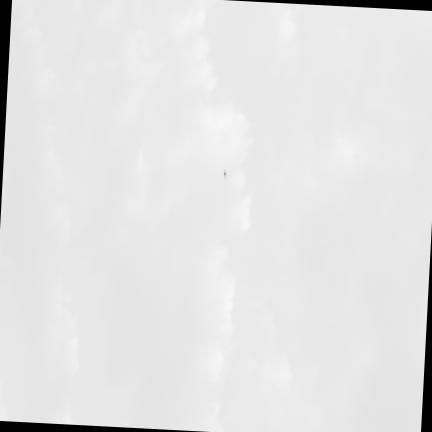Shahed: (223, 169, 226, 180)
